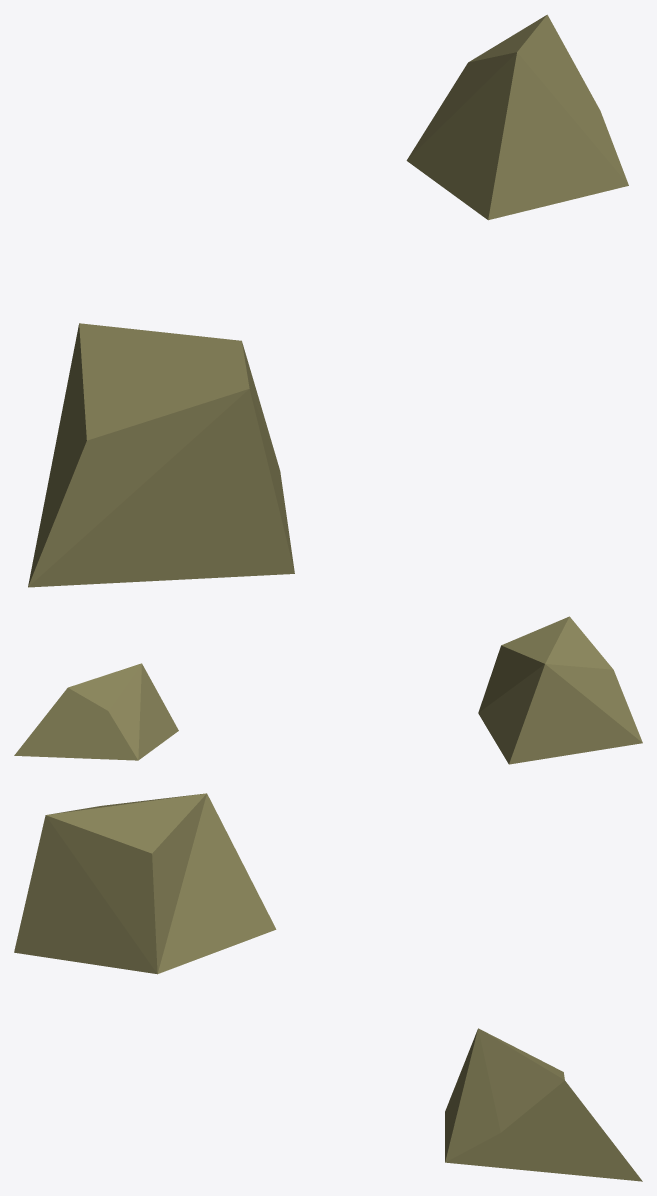
File: desert_rocks_2.fbx
3 renders of one model, top to bottom at view 1: azimuth 30°, elevation 25°; view 2: azimuth 150°, elevation 25°; view 3: azimuth 270°, elevation 25°, orthographic. The views are drawn at different scales.
Visible parts, largest first — view 1: desert_rocks_2; view 2: desert_rocks_2; view 3: desert_rocks_2.
Part boxes in pixels (<box>): desert_rocks_2: <box>28,14,628,587</box>; desert_rocks_2: <box>14,616,642,764</box>; desert_rocks_2: <box>14,793,642,1181</box>.
Size of the model in its own units: 564 by 110 by 469.
